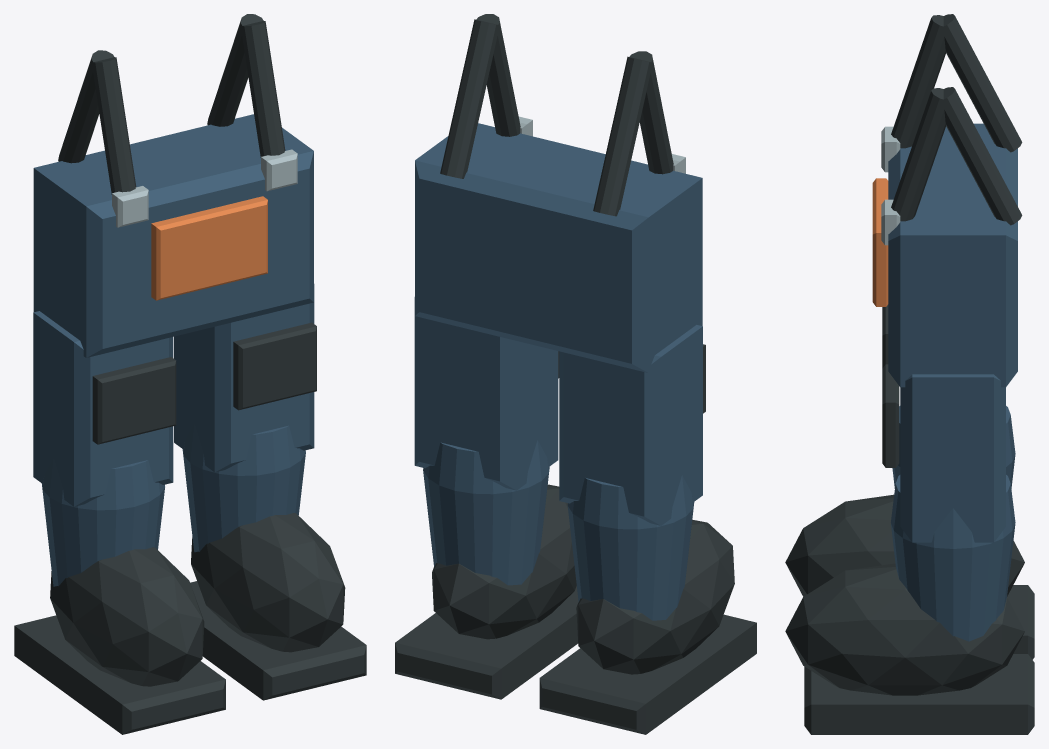
Rendered from harbor-and-tackle-chest-waders-e284e6a0__19574.glb.
3 renders of one model, left to right at view 1: azimuth 30°, elevation 25°; view 2: azimuth 150°, elevation 25°; view 3: azimuth 270°, elevation 25°, orthographic. The views are drawn at different scales.
Visible parts, largest first — view 1: navy, rubber, orange, metal; view 2: navy, rubber; view 3: rubber, navy, orange, metal.
Part boxes in pixels (x1,y1,x2,y2): navy: (33, 114, 314, 586); rubber: (14, 14, 366, 734); orange: (151, 196, 267, 300); metal: (112, 149, 297, 227); navy: (414, 123, 702, 620); rubber: (395, 14, 756, 734); rubber: (785, 14, 1034, 734); navy: (888, 123, 1017, 641); orange: (872, 178, 888, 306); metal: (881, 126, 900, 245).
Size of the model in its own units: 0.6001 by 1.43 by 0.52.
